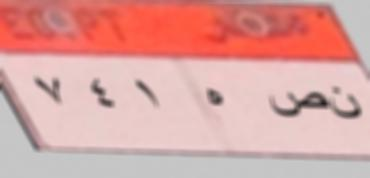1: (129, 76, 166, 118)
4: (87, 74, 121, 119)
7: (30, 66, 66, 113)
haa: (200, 84, 228, 111)
noon: (328, 86, 363, 126)
saad: (267, 84, 326, 123)
